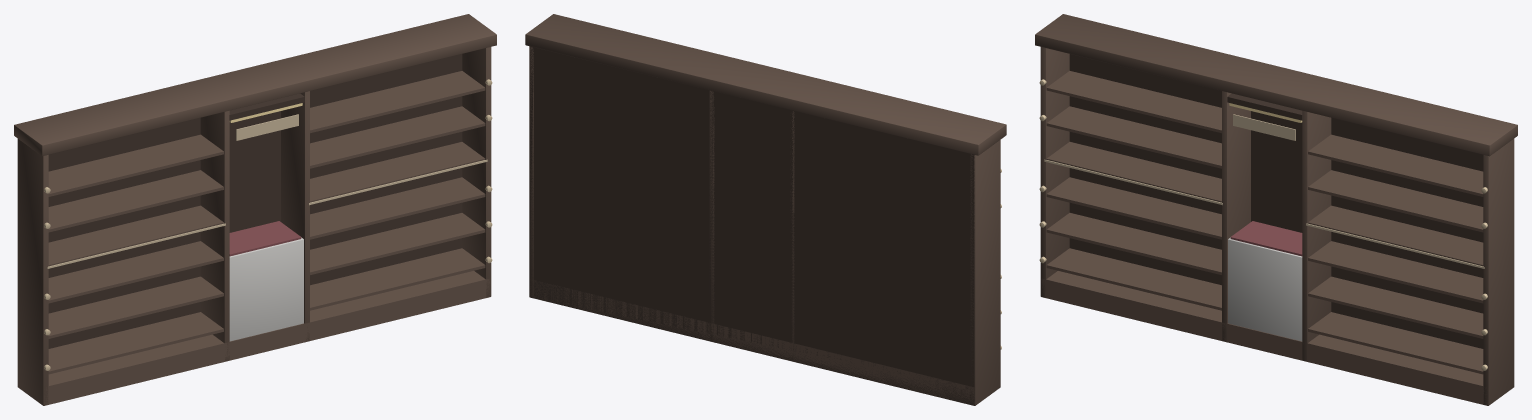
Rendered from hub_cabinet.gltf.
3 renders of one model, left to right at view 1: azimuth 30°, elevation 25°; view 2: azimuth 150°, elevation 25°; view 3: azimuth 330°, elevation 25°, orthographic.
Visible parts, largest first — view 1: Body; view 2: Body; view 3: Body.
Boxes of the visible parts, <box> form: Body: <box>14,14,496,405</box>; Body: <box>525,14,1006,405</box>; Body: <box>1035,14,1517,405</box>.
Bounding box in the file's own units: 5.1 × 2.82 × 0.55.
